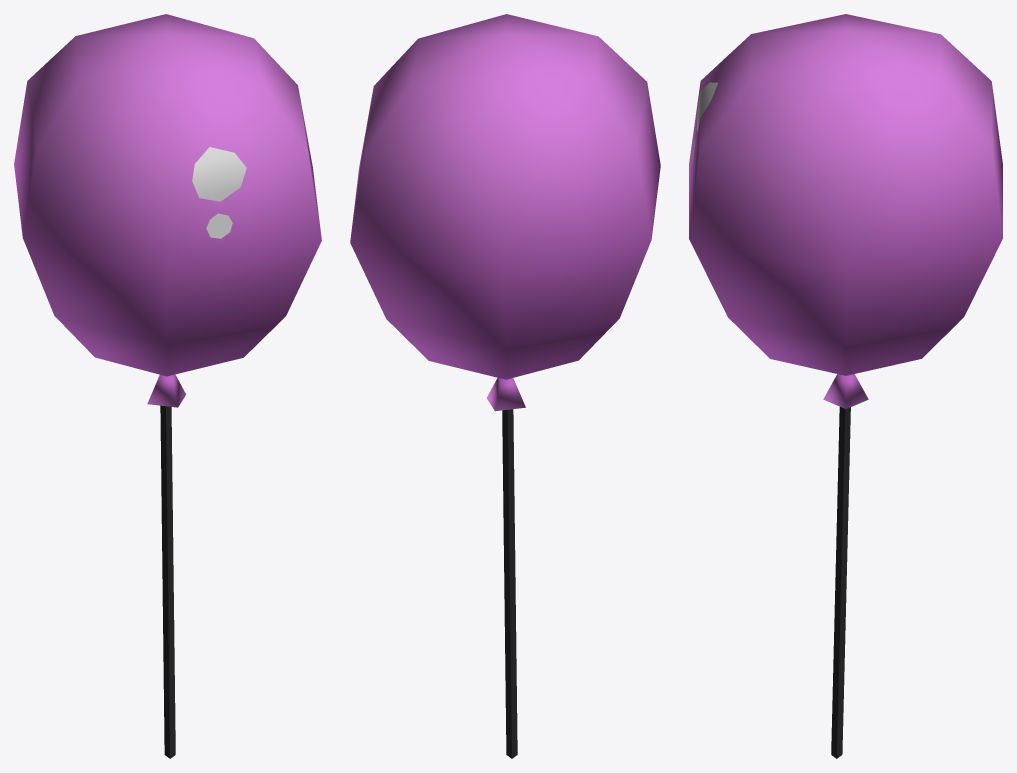
The model's file is pinkBaloon.glb.
3 views of the same model, side by side, from view 1: azimuth 30°, elevation 25°; view 2: azimuth 150°, elevation 25°; view 3: azimuth 270°, elevation 25° (orthographic).
Visible parts, largest first — view 1: pinkBaloon; view 2: pinkBaloon; view 3: pinkBaloon.
Boxes of the visible parts, box(x1,y1,x2,y2) form: pinkBaloon: box(14, 14, 321, 758); pinkBaloon: box(350, 14, 660, 758); pinkBaloon: box(689, 14, 1002, 758).
Bounding box in the file's own units: 0.5473 × 1.29 × 0.5071.
